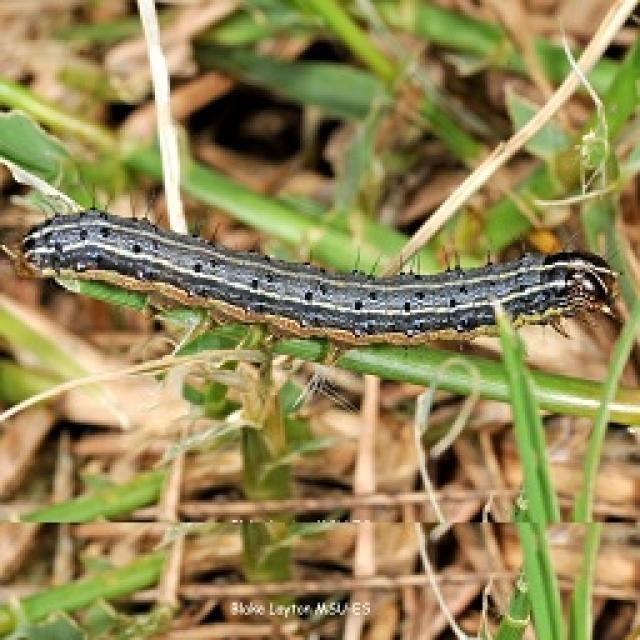worm: (16, 201, 624, 346)
